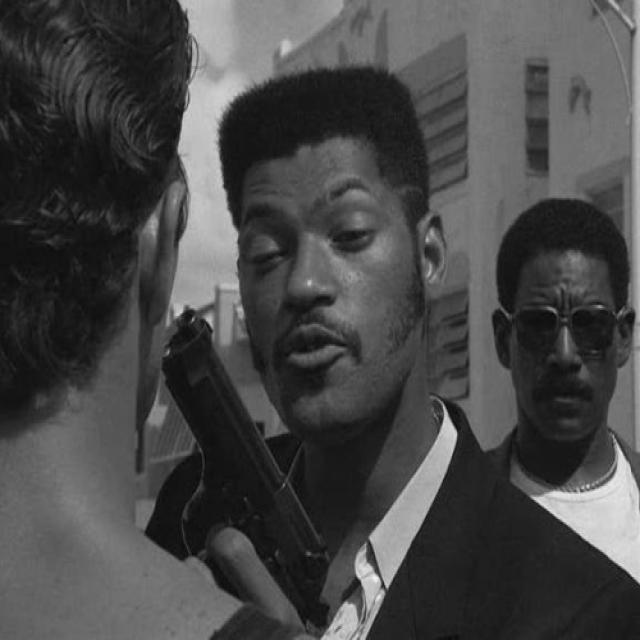weapons: (142, 294, 344, 640)
